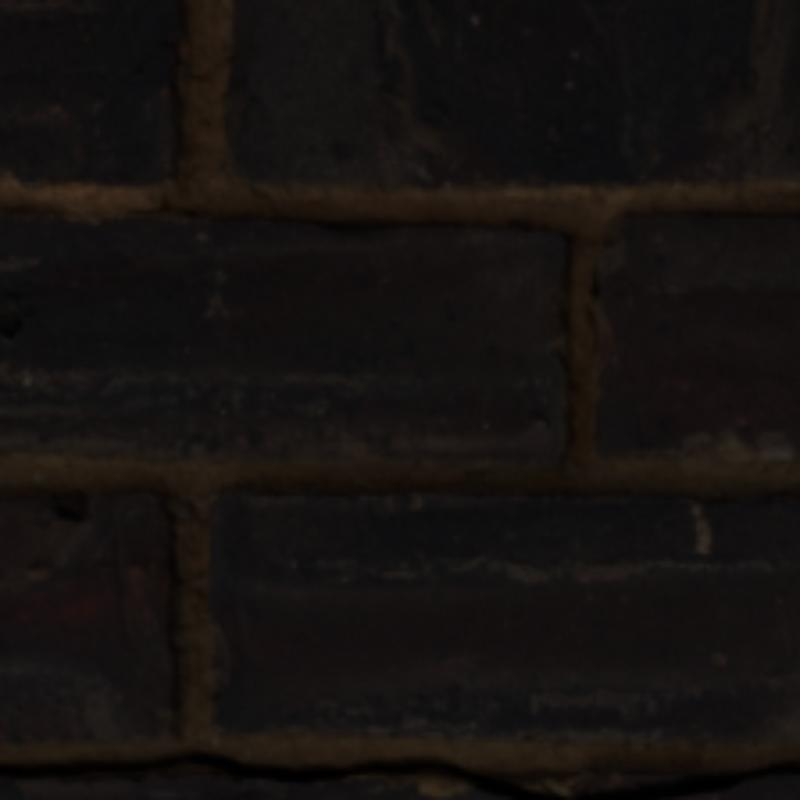crack: (0, 750, 557, 796), (557, 761, 796, 796)
